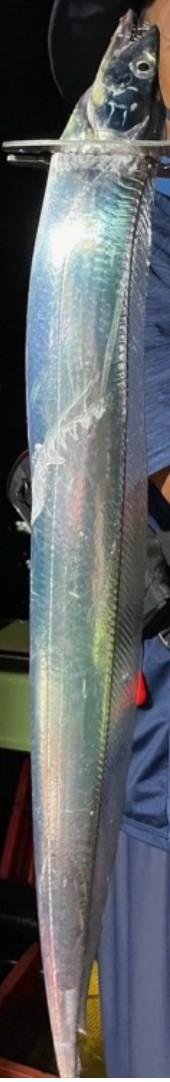fish: (26, 10, 167, 1077)
